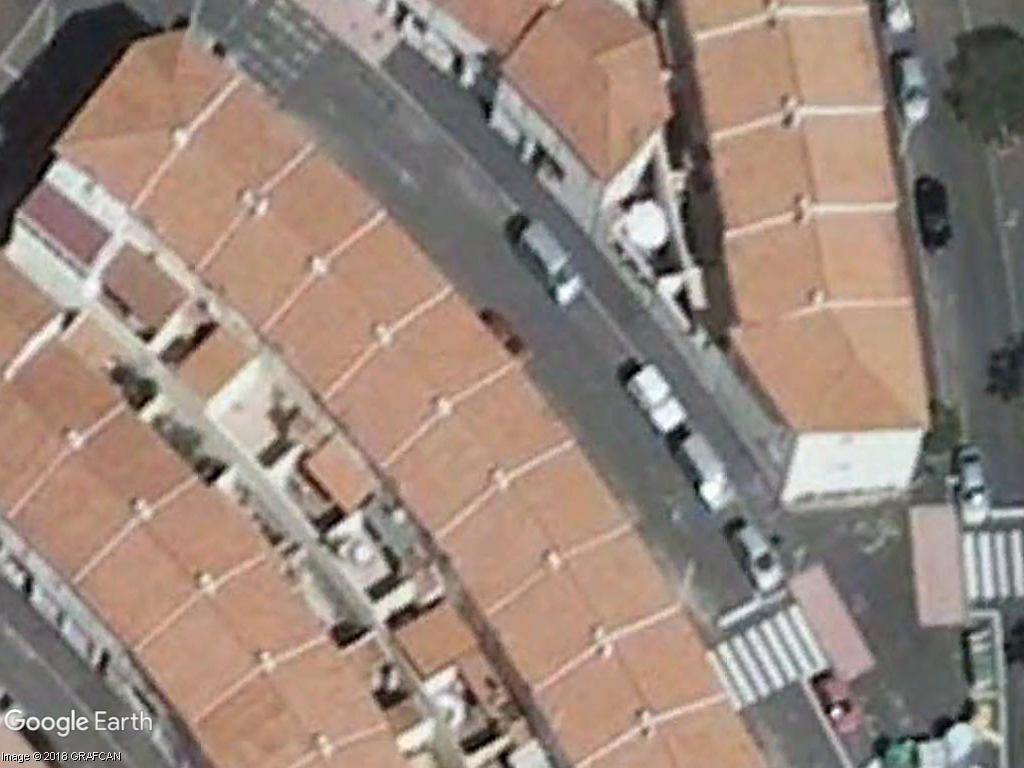car: (723, 513, 791, 598), (911, 170, 956, 259), (952, 436, 994, 530), (891, 44, 936, 128)
other: (619, 355, 692, 436), (666, 427, 739, 507)
truck: (500, 205, 591, 310)
